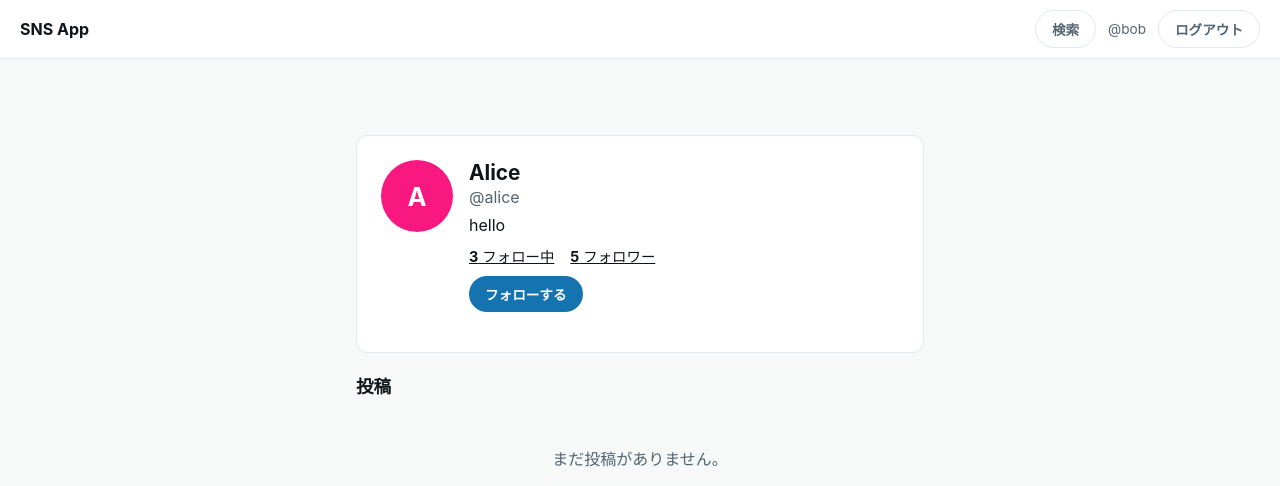
Test: ProfilePage › shows a follow button when viewing another user's profile, and clicking it toggles follow
The width and height of the screenshot is (1280, 486).
Click the button "フォローする".
click(526, 294)  # box [469,276,583,312]
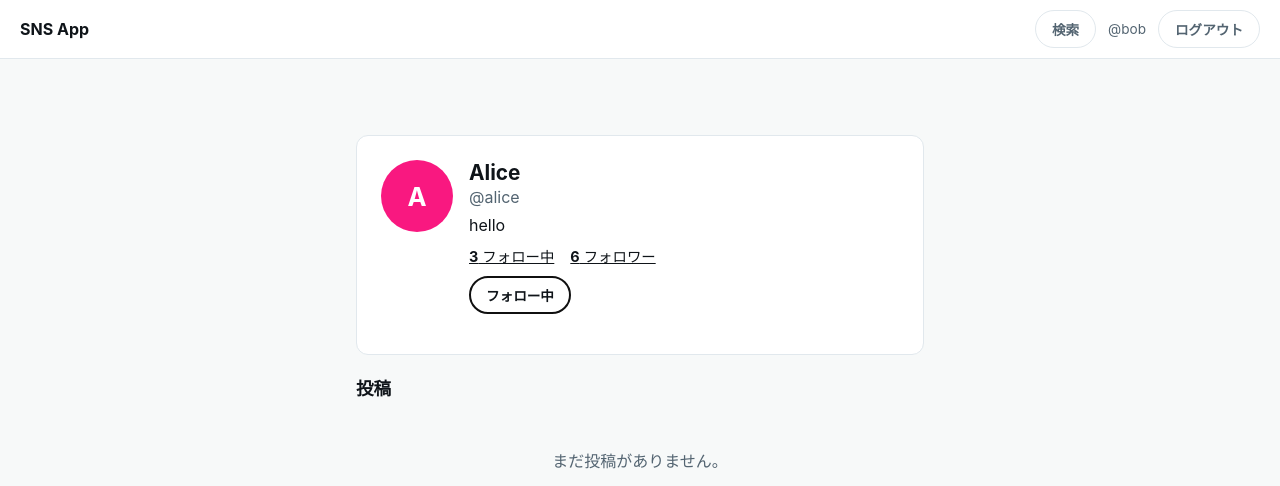
Now the button "フォロー中" is shown, box [469,276,571,314]
